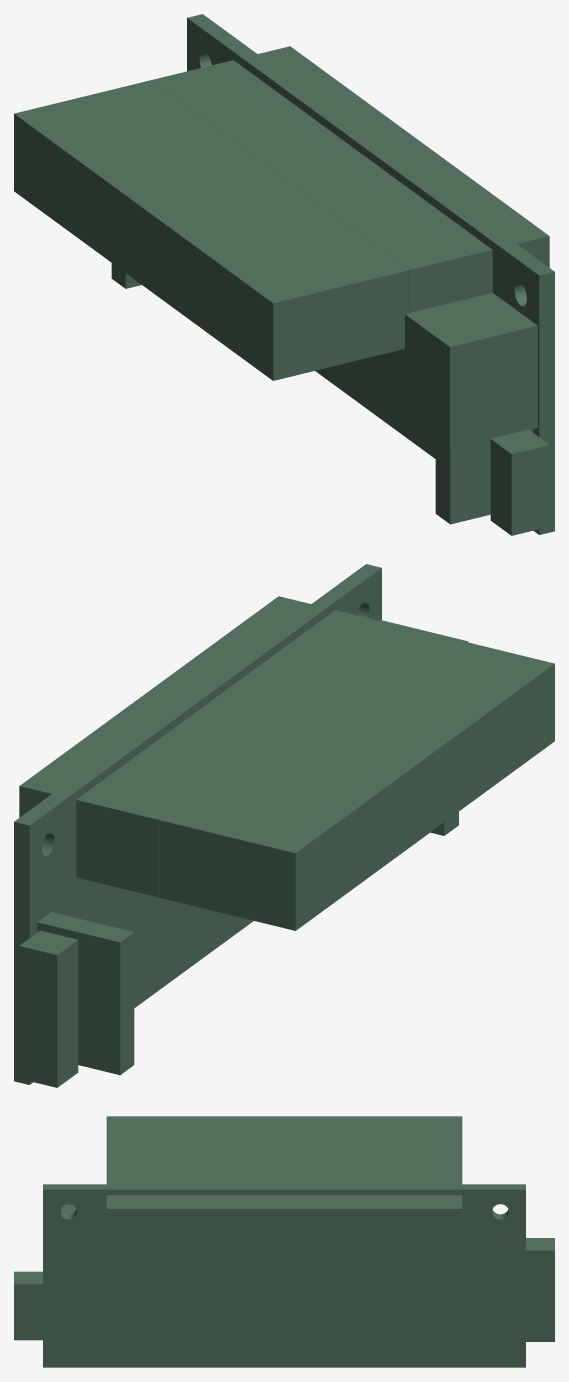
The model's file is PCA9685_Left_v3_4b.glb.
3 renders of one model, top to bottom at view 1: azimuth 30°, elevation 25°; view 2: azimuth 150°, elevation 25°; view 3: azimuth 270°, elevation 25°, orthographic. The views are drawn at different scales.
Visible parts, largest first — view 1: PCA9685_Left_v3_4b; view 2: PCA9685_Left_v3_4b; view 3: PCA9685_Left_v3_4b.
Boxes of the visible parts, left/top/right/bottom form: PCA9685_Left_v3_4b: left=14, top=14, right=554, bottom=535; PCA9685_Left_v3_4b: left=14, top=564, right=554, bottom=1087; PCA9685_Left_v3_4b: left=14, top=1116, right=554, bottom=1367.
Size of the model in its own units: 28.3 by 25.4 by 70.
